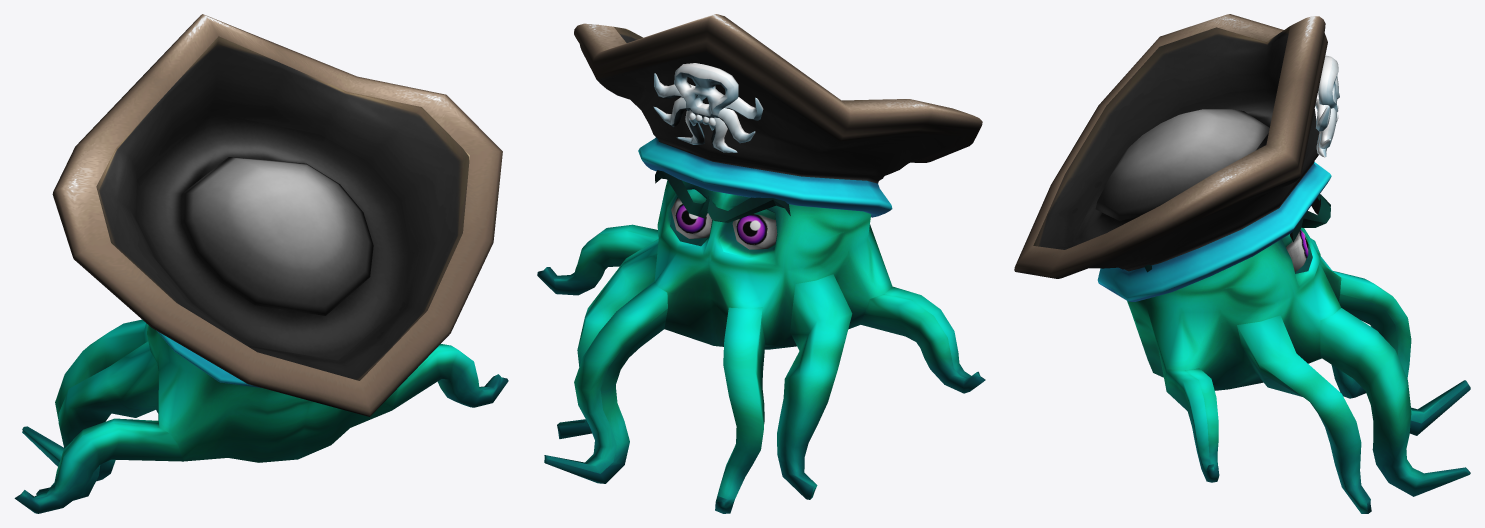
3 views of the same model, side by side, from view 1: azimuth 30°, elevation 25°; view 2: azimuth 150°, elevation 25°; view 3: azimuth 270°, elevation 25° (orthographic). The views are drawn at different scales.
Parts seen in each view (by area): view 1: Mesh; view 2: Mesh; view 3: Mesh.
Part boxes in pixels (box(x1,y1,x2,y2)): Mesh: box(14, 14, 508, 513); Mesh: box(537, 14, 985, 513); Mesh: box(1014, 14, 1470, 513).
Bounding box in the file's own units: 1.59 × 1.51 × 1.4.
